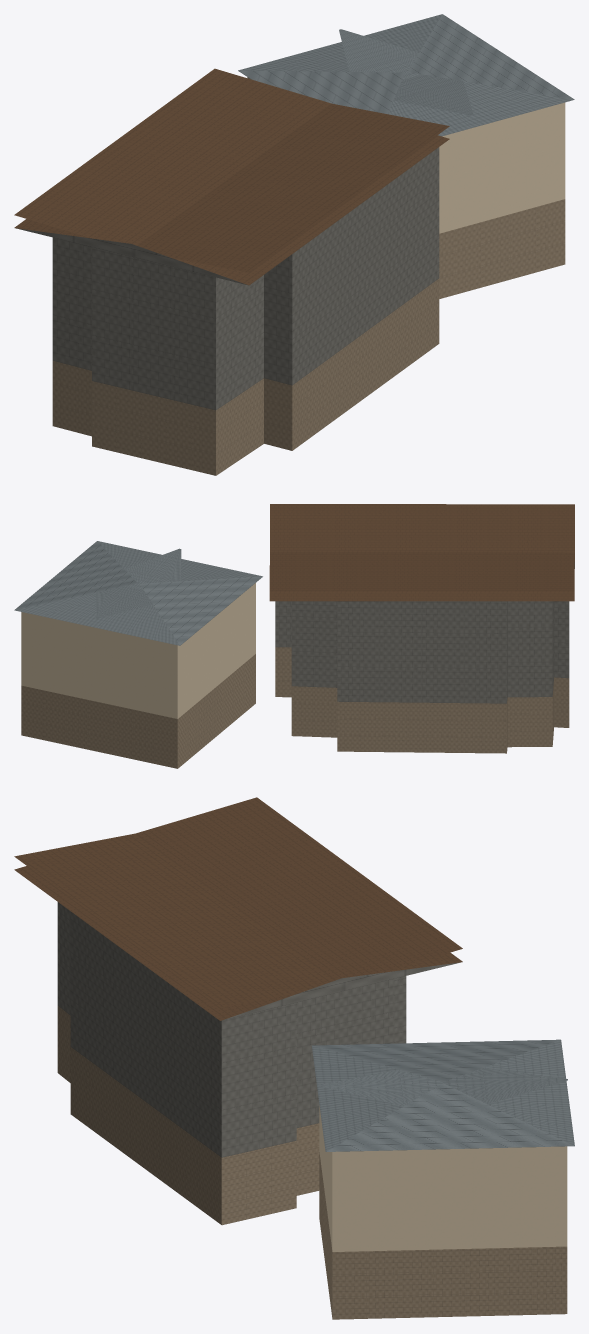
File: bld_c3_-8_600.gltf
3 renders of one model, top to bottom at view 1: azimuth 30°, elevation 25°; view 2: azimuth 150°, elevation 25°; view 3: azimuth 270°, elevation 25°, orthographic. The views are drawn at different scales.
Parts seen in each view (by area): view 1: bld_c3_-8_600; view 2: bld_c3_-8_600; view 3: bld_c3_-8_600.
Part boxes in pixels (bbox=[...]): bld_c3_-8_600: bbox=[14, 14, 574, 475]; bld_c3_-8_600: bbox=[14, 504, 574, 768]; bld_c3_-8_600: bbox=[14, 797, 574, 1319].
Bounding box in the file's own units: 48.43 × 17.1 × 38.39.
Materials: 6 (6 with a texture image).
